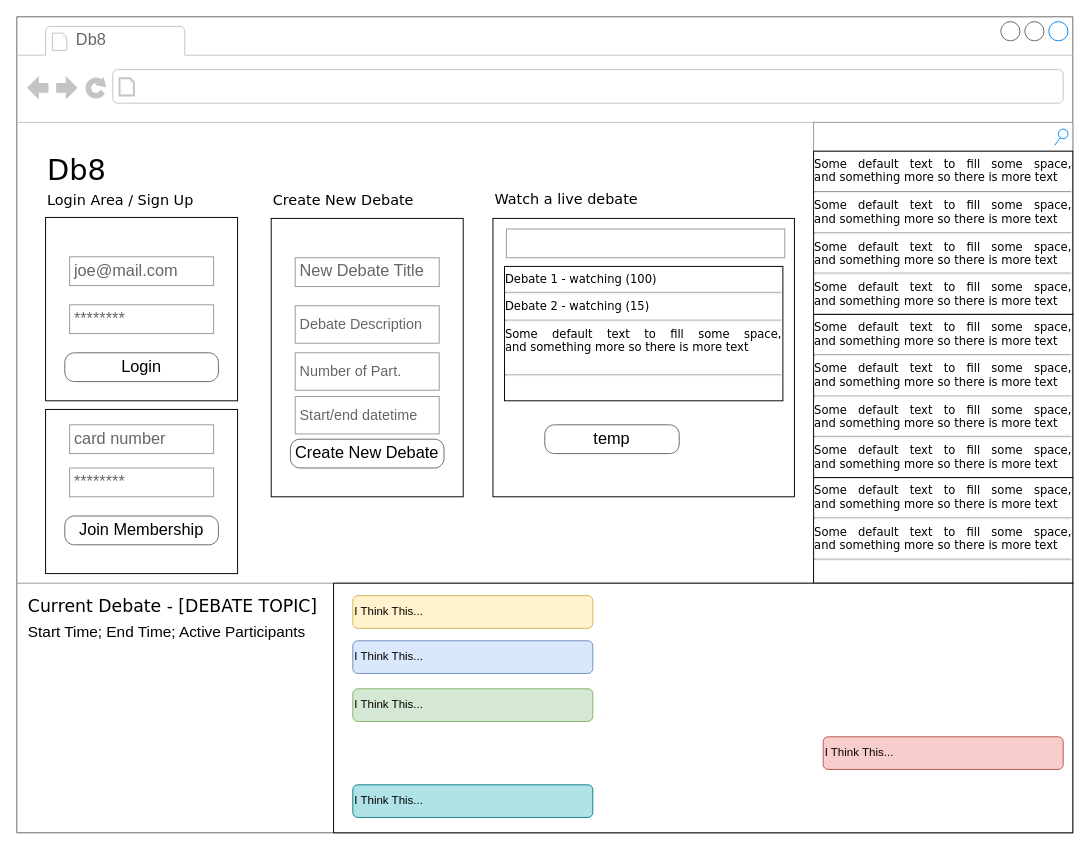
This 1090x850 diagram has some shape labels left out. The shapes that lost their labels are listed below. From the top down, each one's centre as x and y in pixels, then its label:
point (261, 86): https://www.db8.com
point (943, 136): Search Past Debates
point (645, 243): Search
